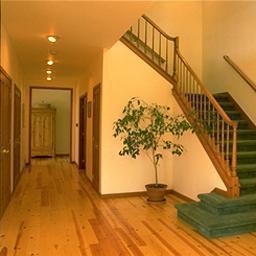Armario: (34, 108, 56, 158)
Escaleras: (171, 65, 253, 239)
Matera: (121, 99, 191, 209)
Puerta: (2, 75, 15, 218), (90, 81, 103, 187), (12, 89, 22, 190), (77, 90, 87, 168)
